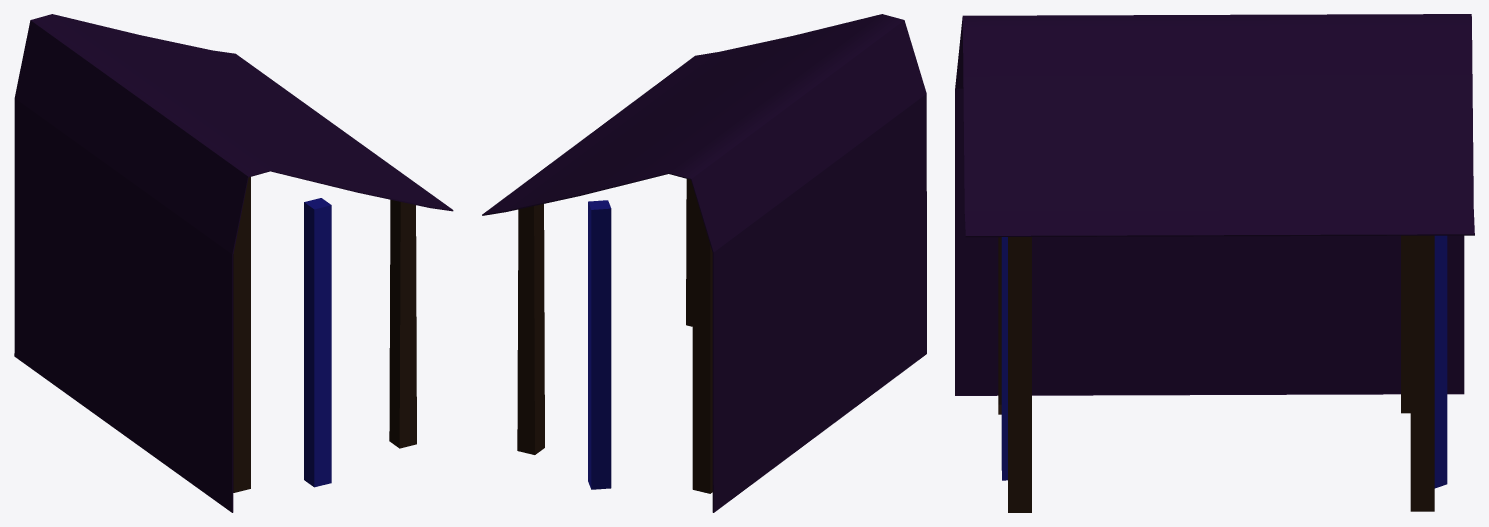
File: ShopTent_v2.fbx
3 renders of one model, left to right at view 1: azimuth 30°, elevation 25°; view 2: azimuth 150°, elevation 25°; view 3: azimuth 270°, elevation 25°, orthographic. The views are drawn at different scales.
Parts seen in each view (by area): view 1: Tent6; view 2: Tent6; view 3: Tent6.
Boxes of the visible parts, left/top/right/bottom form: Tent6: left=14, top=14, right=453, bottom=512; Tent6: left=482, top=14, right=926, bottom=512; Tent6: left=955, top=14, right=1474, bottom=512.
Size of the model in its own units: 3.07 by 4.4 by 5.09.
